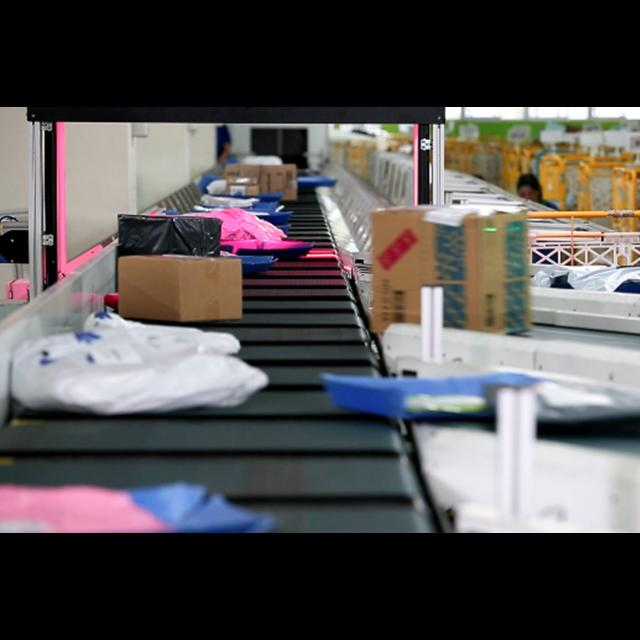box: (371, 207, 531, 336), (120, 256, 242, 320), (226, 163, 298, 201)
mailer: (10, 336, 266, 414), (0, 484, 272, 534), (488, 380, 640, 438), (84, 311, 240, 355), (118, 215, 222, 258), (179, 212, 283, 242), (202, 196, 254, 208)
